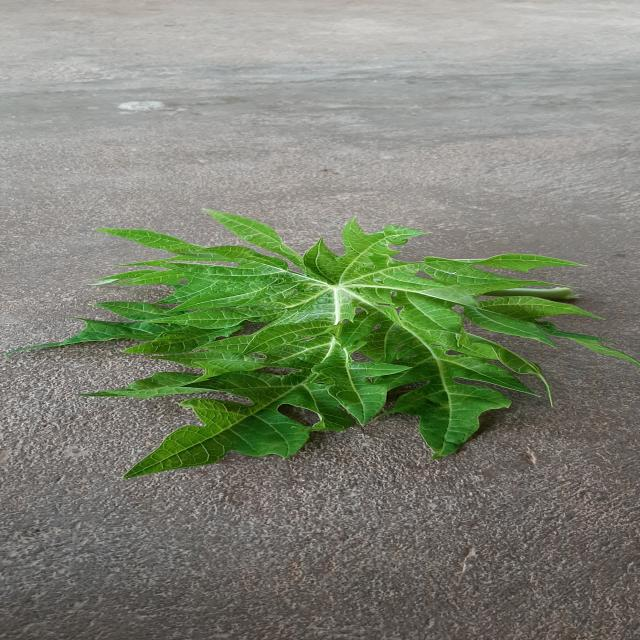papaya: (43, 211, 607, 478)
